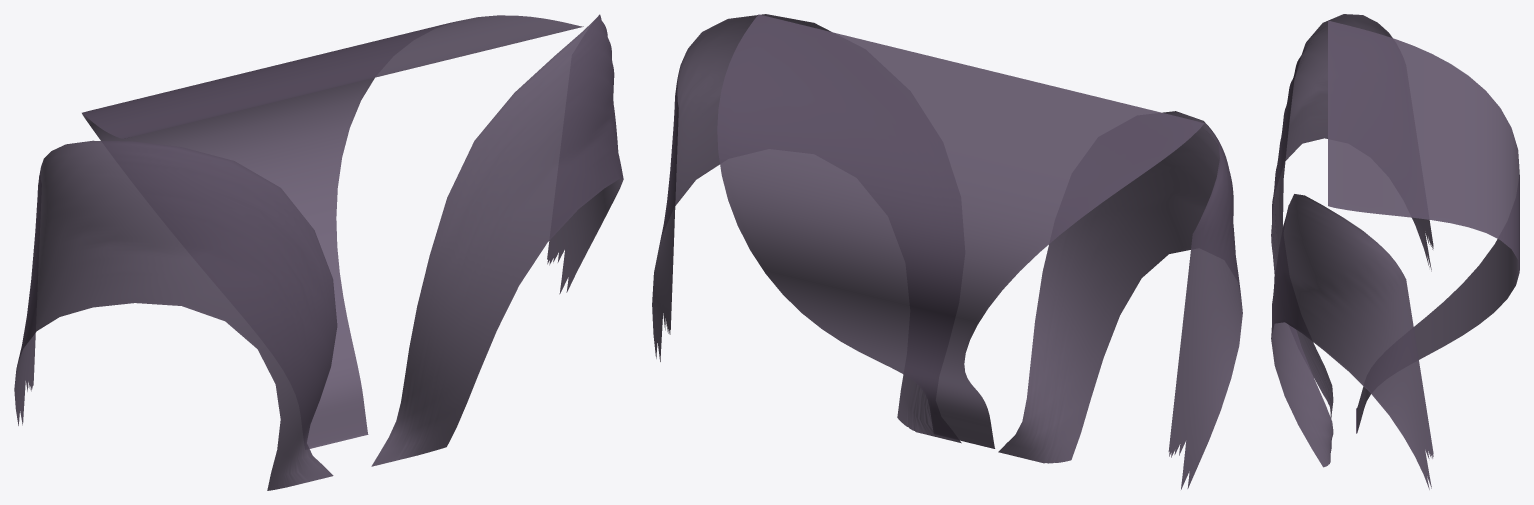
Rendered from SilkCurtains.fbx.
The picture shows the model from 3 angles, left to right: view 1: azimuth 30°, elevation 25°; view 2: azimuth 150°, elevation 25°; view 3: azimuth 270°, elevation 25°; orthographic projection. The views are drawn at different scales.
Parts seen in each view (by area): view 1: LeftSilkCurtain, RightSilkCurtain, CenterSilkCurtain; view 2: CenterSilkCurtain, LeftSilkCurtain, RightSilkCurtain; view 3: CenterSilkCurtain, RightSilkCurtain, LeftSilkCurtain.
Boxes of the visible parts, x1,y1,x2,y2 form: LeftSilkCurtain: (14, 140, 337, 490); RightSilkCurtain: (371, 14, 623, 466); CenterSilkCurtain: (82, 15, 583, 448); CenterSilkCurtain: (717, 14, 1204, 448); LeftSilkCurtain: (998, 111, 1242, 489); RightSilkCurtain: (652, 14, 961, 443); CenterSilkCurtain: (1328, 20, 1519, 433); RightSilkCurtain: (1271, 194, 1433, 489); LeftSilkCurtain: (1271, 14, 1433, 418).
Bounding box in the file's own units: 103 × 64.9 × 45.33.
